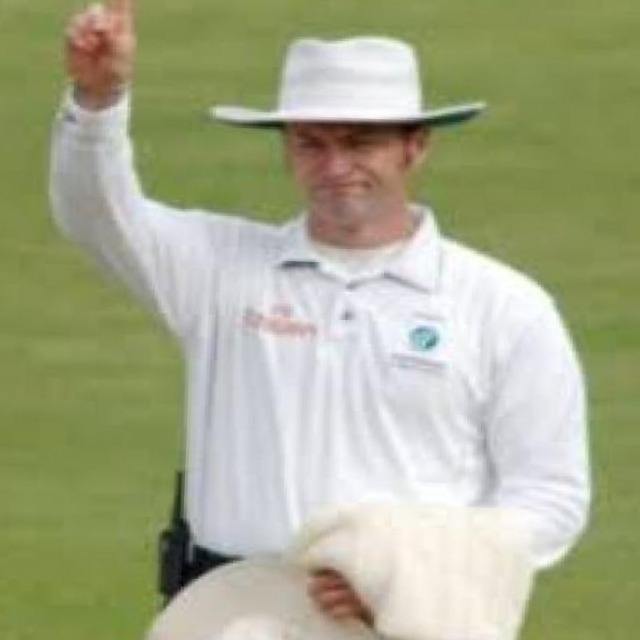Out: (21, 0, 621, 640)
